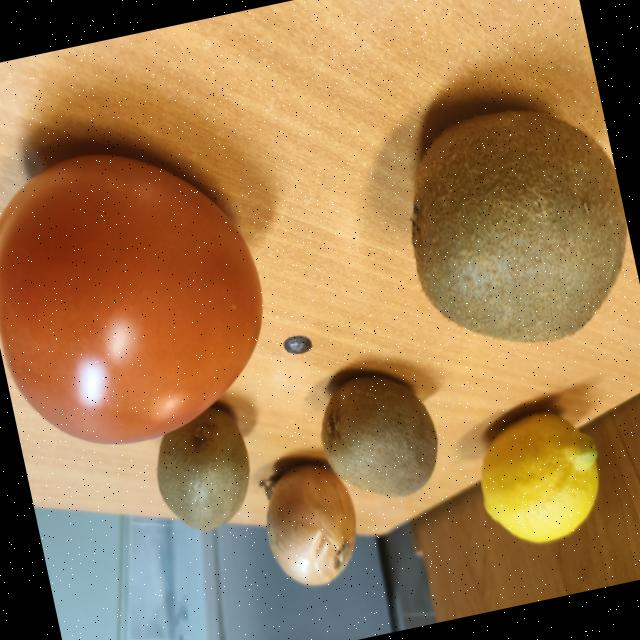kiwi: (410, 110, 625, 341), (320, 375, 436, 496), (155, 406, 248, 530)
lemon: (479, 411, 597, 542), (265, 463, 355, 585)
tomato: (0, 154, 261, 443)
